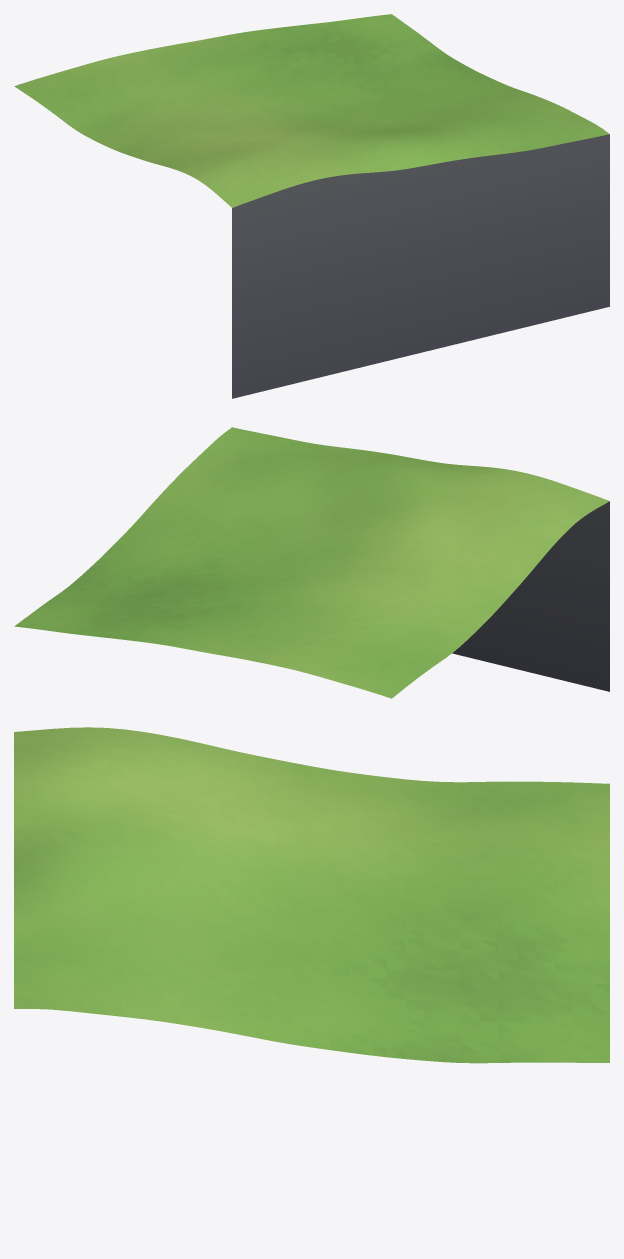
File: terrain_r0_c1.glb
3 views of the same model, one above another, from view 1: azimuth 30°, elevation 25°; view 2: azimuth 150°, elevation 25°; view 3: azimuth 270°, elevation 25° (orthographic). The views are drawn at different scales.
Parts seen in each view (by area): view 1: terrain_r0_c1; view 2: terrain_r0_c1; view 3: terrain_r0_c1.
Part boxes in pixels (box(x1,y1,x2,y2)): terrain_r0_c1: box(14, 14, 609, 398); terrain_r0_c1: box(14, 427, 609, 698); terrain_r0_c1: box(14, 727, 609, 1063).
Size of the model in its own units: 128 by 64.79 by 128.
Materials: 1 (1 with a texture image).
